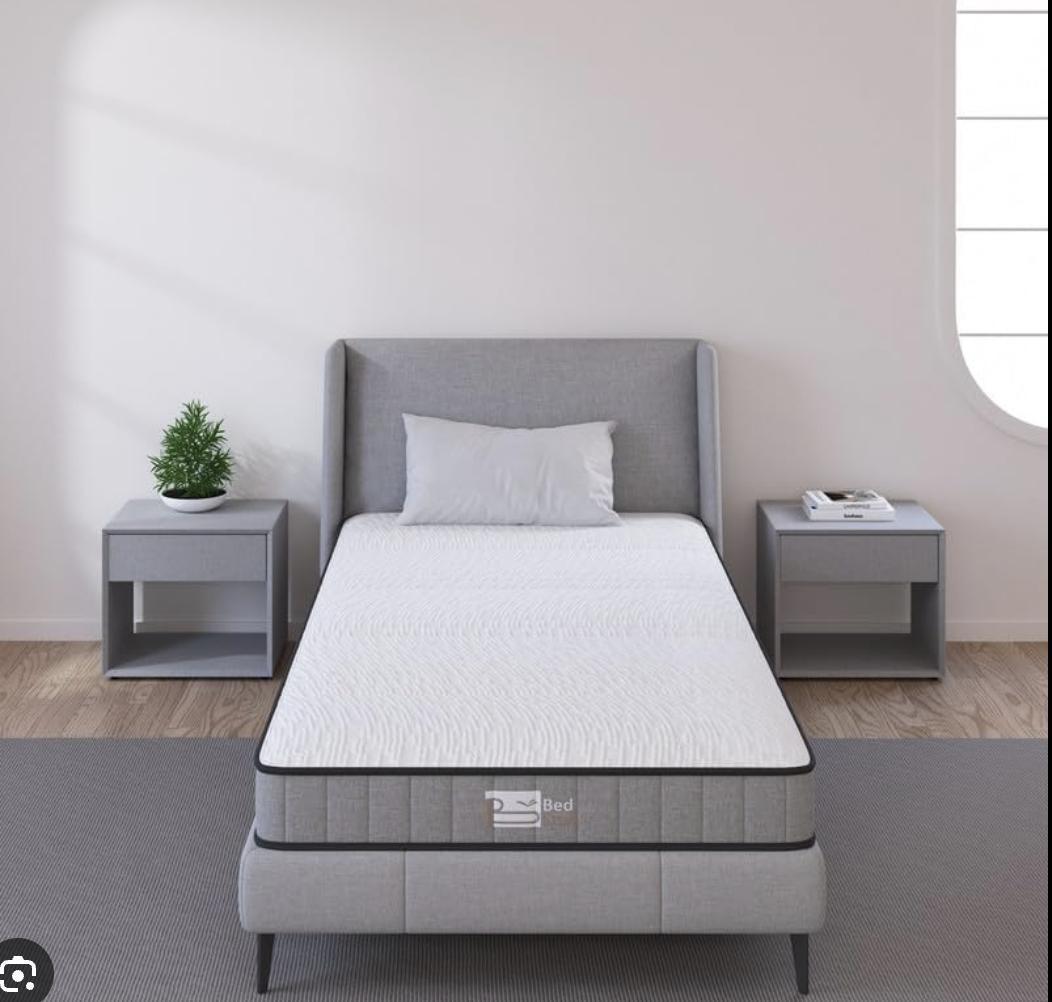Bed-Mattress: (229, 330, 837, 955)
